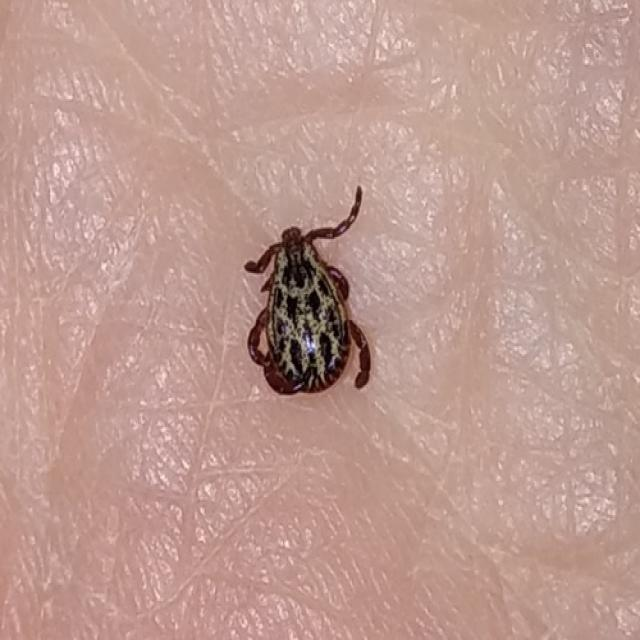Dermacentor Reticulatus-M: (244, 187, 370, 398)
